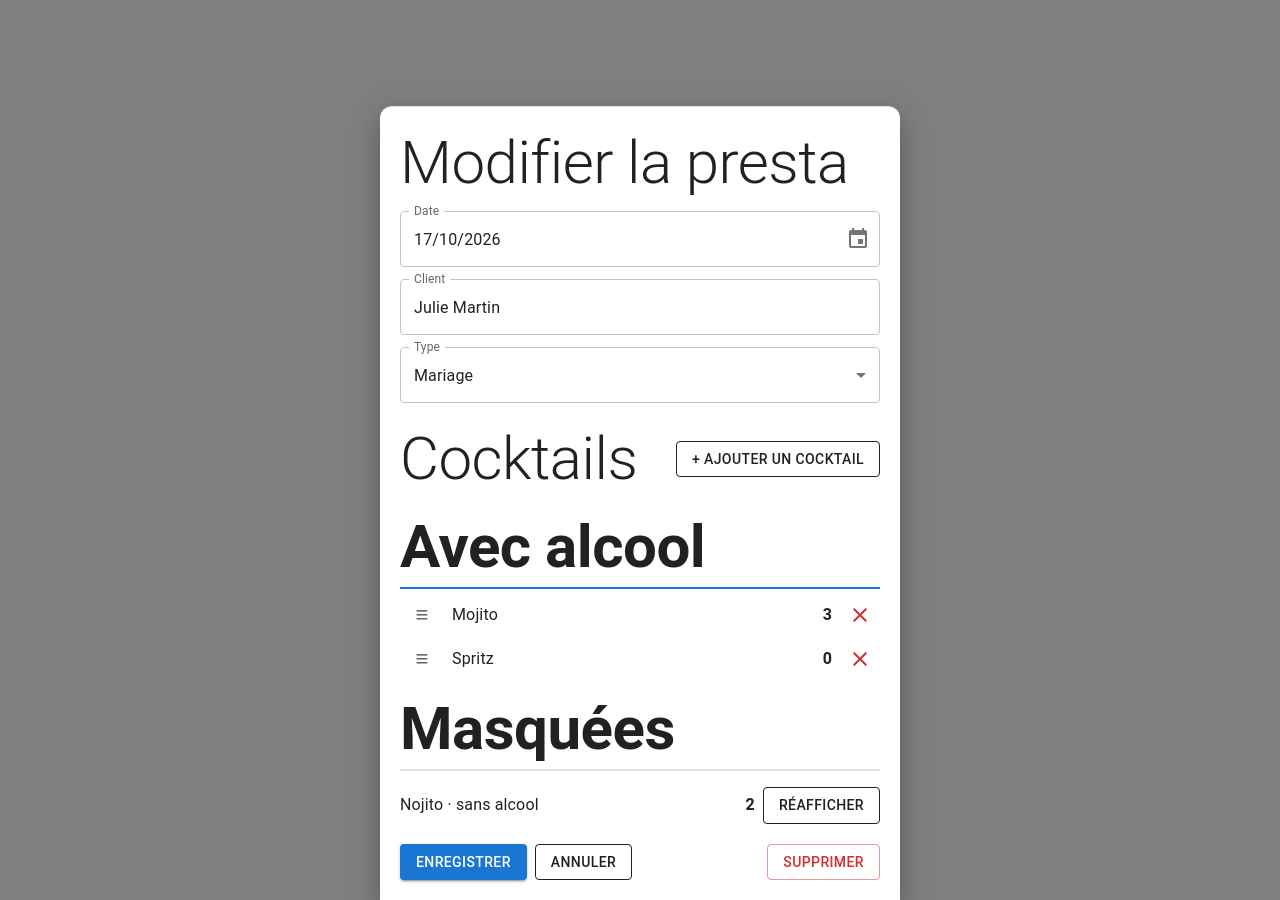
it: EcranModifierPresta › retire directement une ligne à 0
Step 1. Click the button named "Retirer" → [860, 659], box [840,639,880,679]
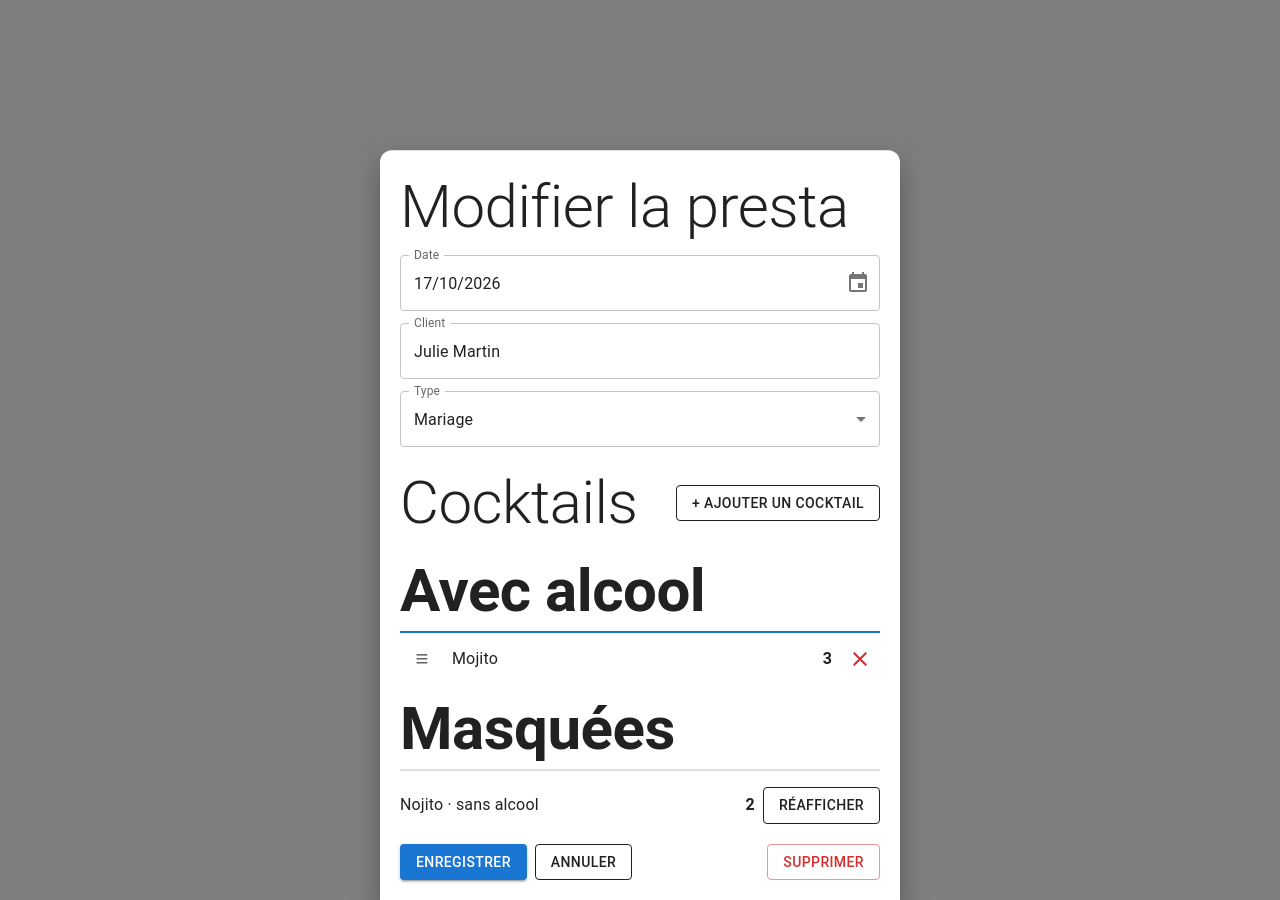
Expected: the text "Spritz" is gone
